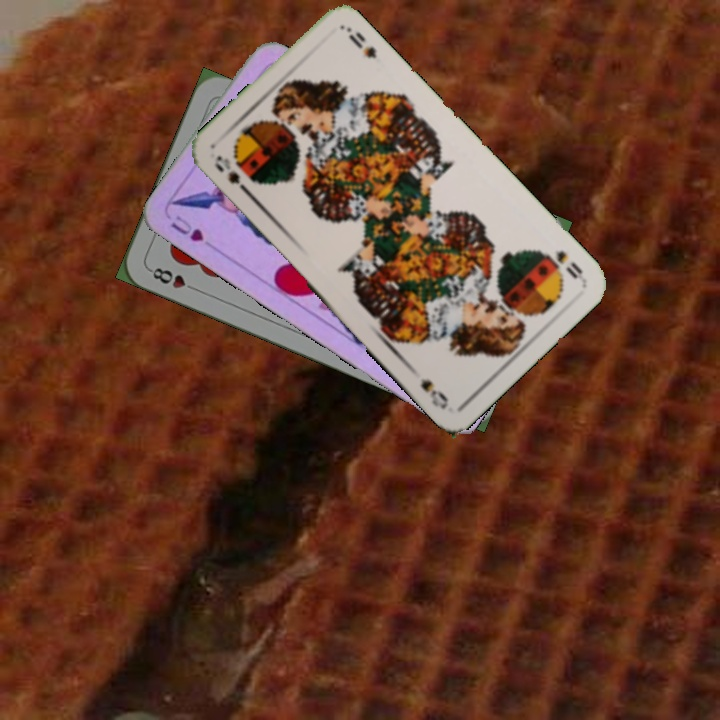H8: (145, 263, 201, 294)
HU: (167, 211, 207, 245)
SO: (210, 151, 254, 199), (541, 246, 585, 283)
